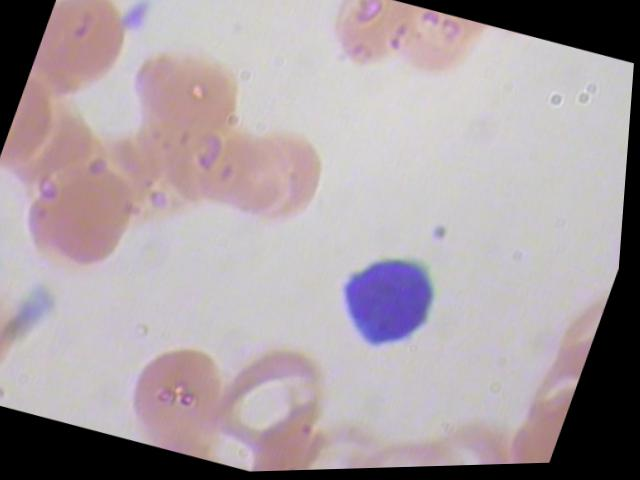Platelets: (117, 0, 164, 43), (0, 242, 11, 293), (0, 193, 11, 241)
Red Blood Cells: (13, 137, 158, 287), (111, 31, 260, 168), (215, 331, 351, 469), (117, 335, 252, 450), (221, 125, 337, 244), (24, 0, 144, 114), (381, 5, 490, 100), (316, 0, 425, 84), (355, 414, 487, 470), (415, 410, 531, 469)
White Blood Cells: (312, 224, 472, 380)
